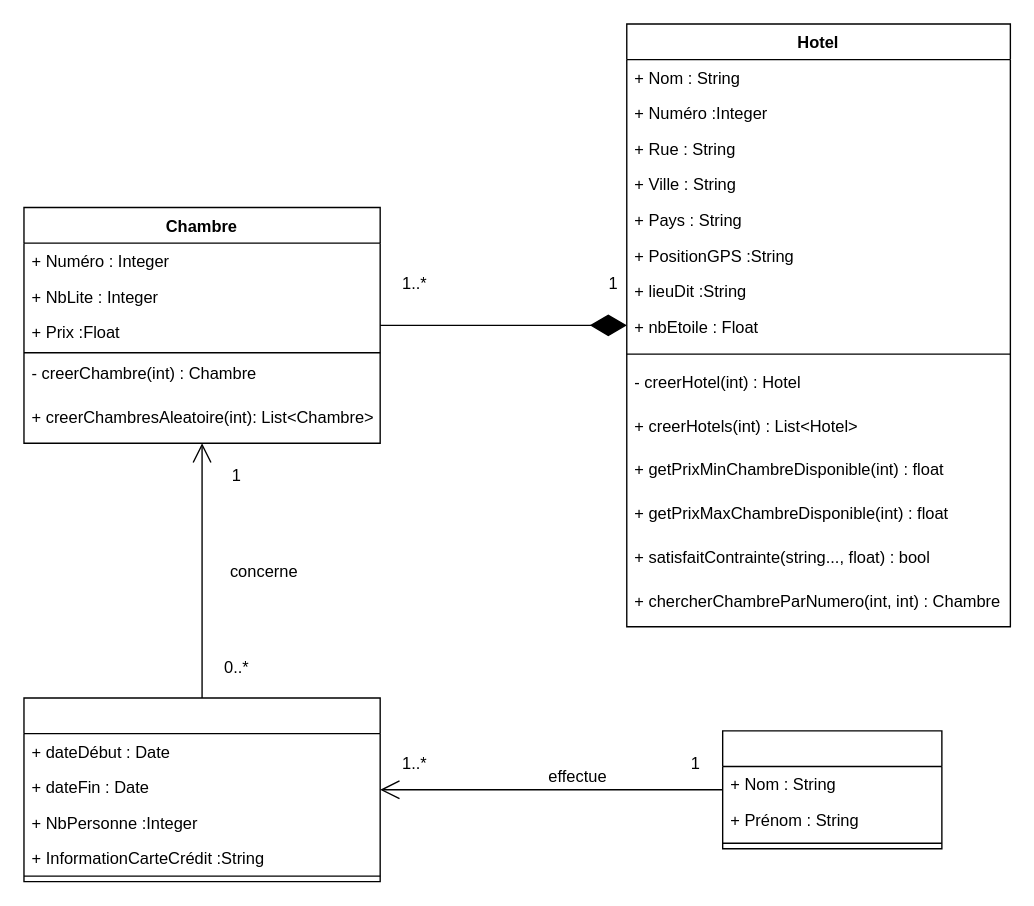
The diagram is 1034 pixels wide and 906 high, and some of its shapes have lost their labels. The box of each missing label's shape, as (x1, y1, x2, y2) in pixels:
Client: (721, 730, 942, 849)
Réservation: (23, 697, 380, 882)
